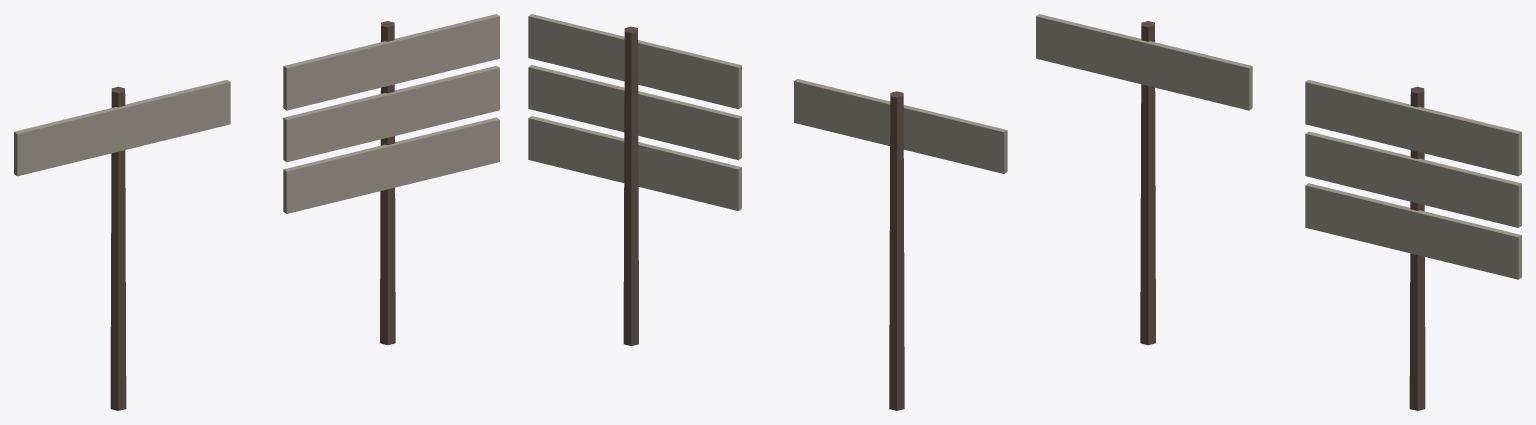
Rendered from poste_indicador.glb.
3 views of the same model, side by side, from view 1: azimuth 30°, elevation 25°; view 2: azimuth 150°, elevation 25°; view 3: azimuth 330°, elevation 25° (orthographic).
Visible parts, largest first — view 1: PosteIndicador_3, PosteIndicador_1; view 2: PosteIndicador_3, PosteIndicador_1; view 3: PosteIndicador_3, PosteIndicador_1.
Part boxes in pixels (left/top/right/bottom): PosteIndicador_3: left=283, top=14, right=499, bottom=345; PosteIndicador_1: left=14, top=80, right=230, bottom=410; PosteIndicador_3: left=528, top=14, right=741, bottom=345; PosteIndicador_1: left=794, top=79, right=1007, bottom=410; PosteIndicador_3: left=1305, top=80, right=1521, bottom=410; PosteIndicador_1: left=1036, top=14, right=1252, bottom=345.
Bounding box in the file's own units: 4.3 × 2.7 × 0.1456.
